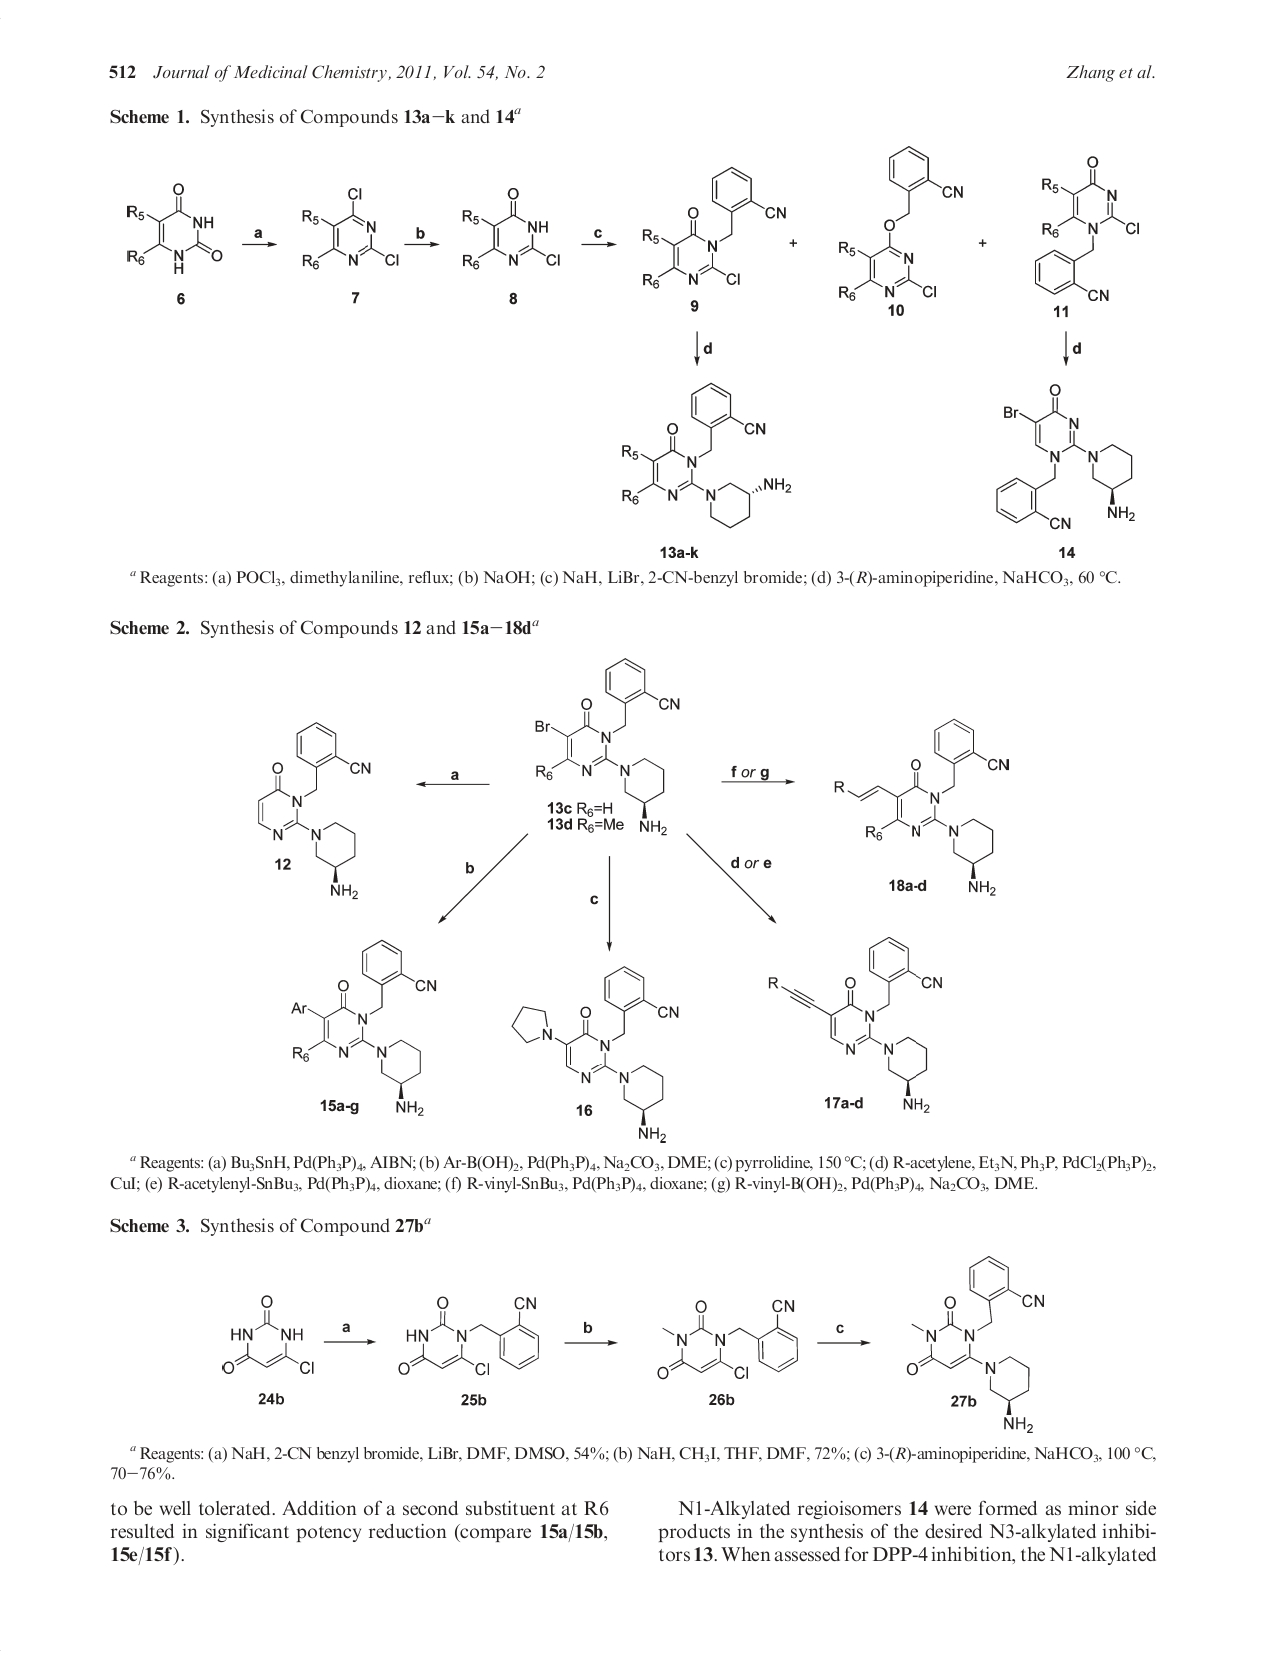exist_molecular: (832, 715, 1009, 903), (766, 936, 946, 1114), (512, 965, 680, 1146), (287, 936, 442, 1121), (533, 652, 684, 840), (903, 1251, 1049, 1438), (614, 380, 793, 531), (988, 375, 1144, 532), (251, 717, 372, 906), (832, 142, 971, 303), (640, 164, 789, 293), (1025, 149, 1144, 302), (394, 1289, 549, 1380), (652, 1297, 805, 1386), (120, 180, 230, 277), (294, 181, 404, 270), (455, 184, 564, 273), (219, 1295, 316, 1386)
